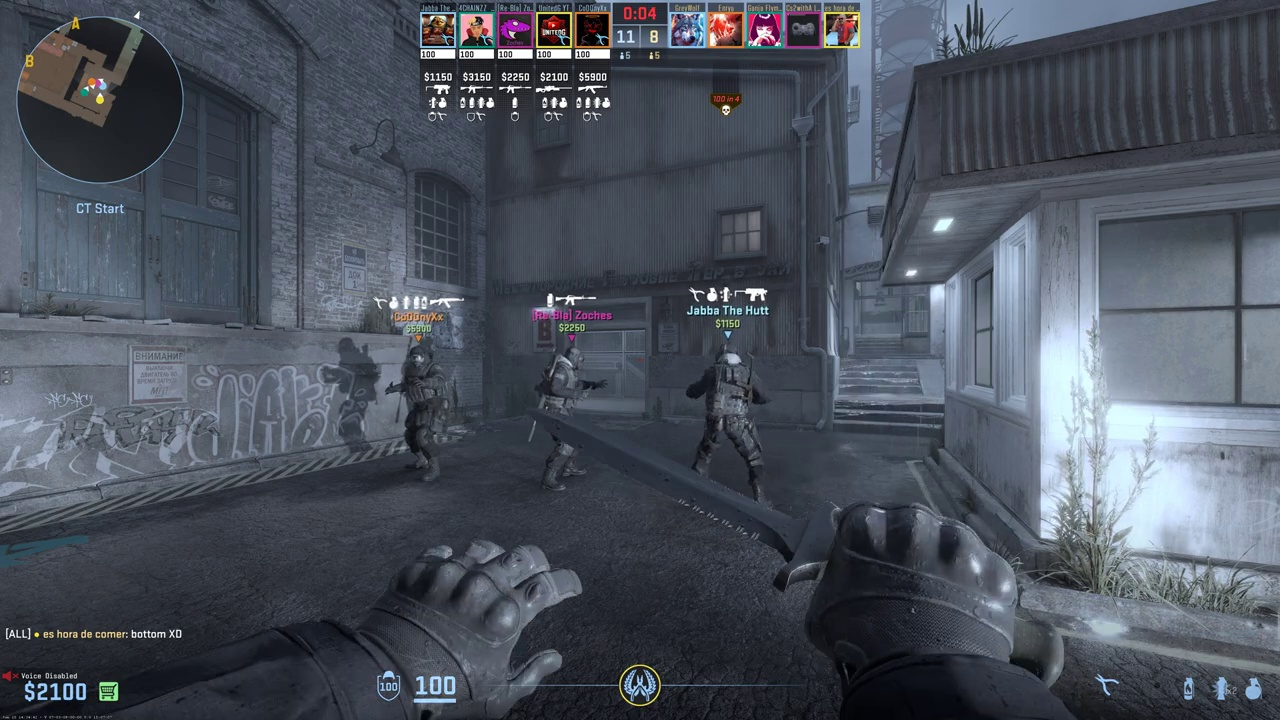CT: (692, 347, 763, 498), (533, 349, 589, 490), (399, 347, 442, 471)
